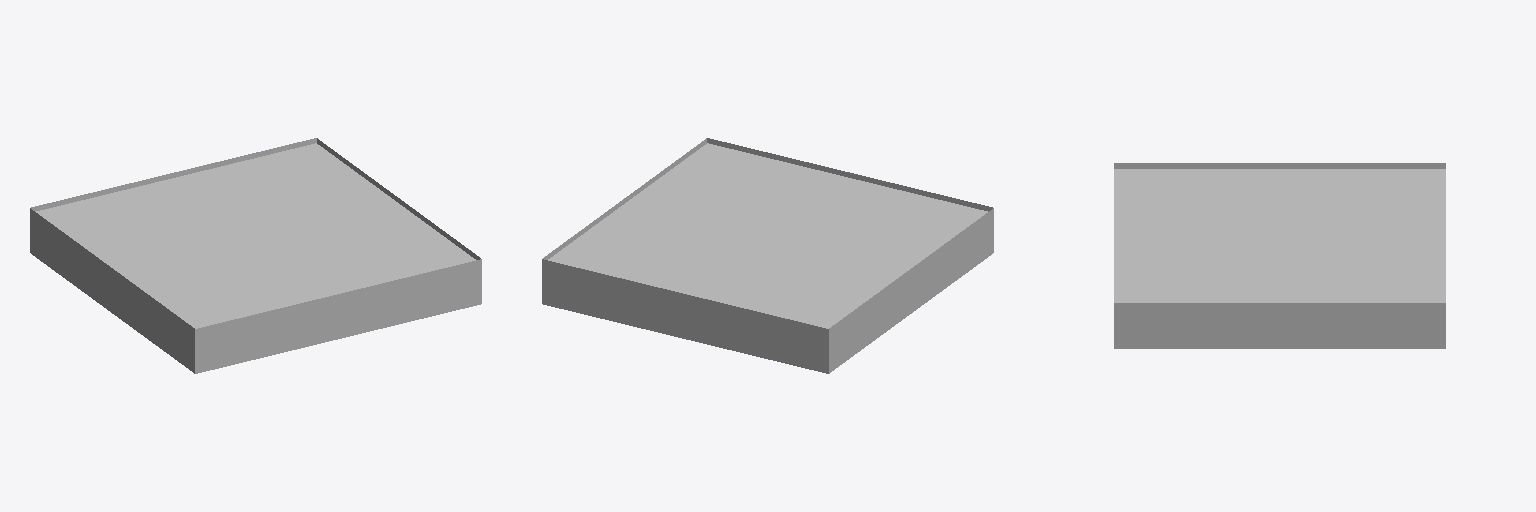
Rendered from room.obj.
The picture shows the model from 3 angles: view 1: azimuth 30°, elevation 25°; view 2: azimuth 150°, elevation 25°; view 3: azimuth 270°, elevation 25°; orthographic projection.
Parts seen in each view (by area): view 1: pPlane2, pPlane3; view 2: pPlane2, pPlane3; view 3: pPlane2, pPlane3.
Part boxes in pixels (bbox=[...]): pPlane2: bbox=[36, 143, 475, 328]; pPlane3: bbox=[30, 138, 481, 373]; pPlane2: bbox=[548, 143, 987, 328]; pPlane3: bbox=[542, 138, 993, 373]; pPlane2: bbox=[1114, 169, 1445, 302]; pPlane3: bbox=[1114, 163, 1445, 348].
Size of the model in its own units: 100 by 15.04 by 100.